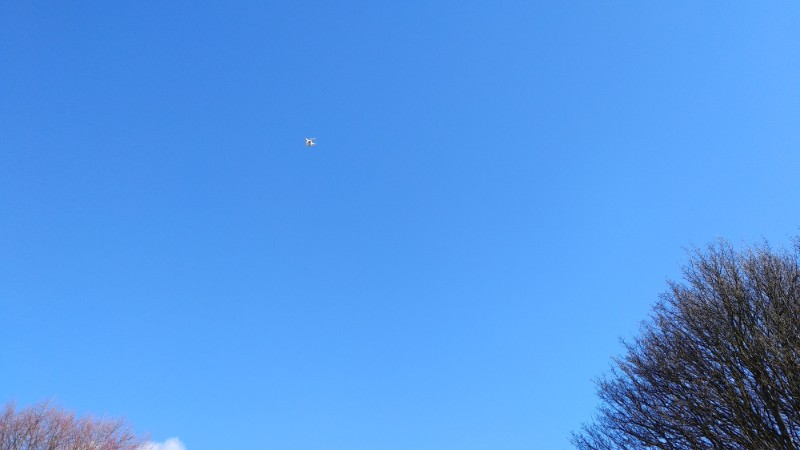drone: (303, 135, 316, 147)
